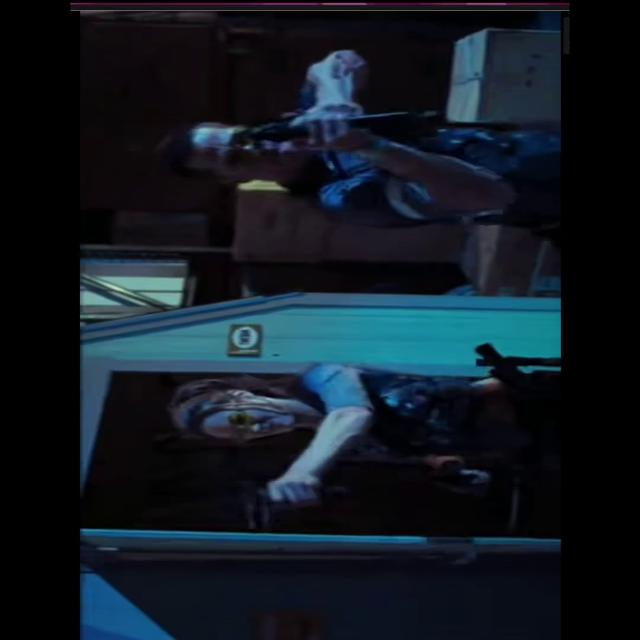weapons: (210, 463, 340, 537)
